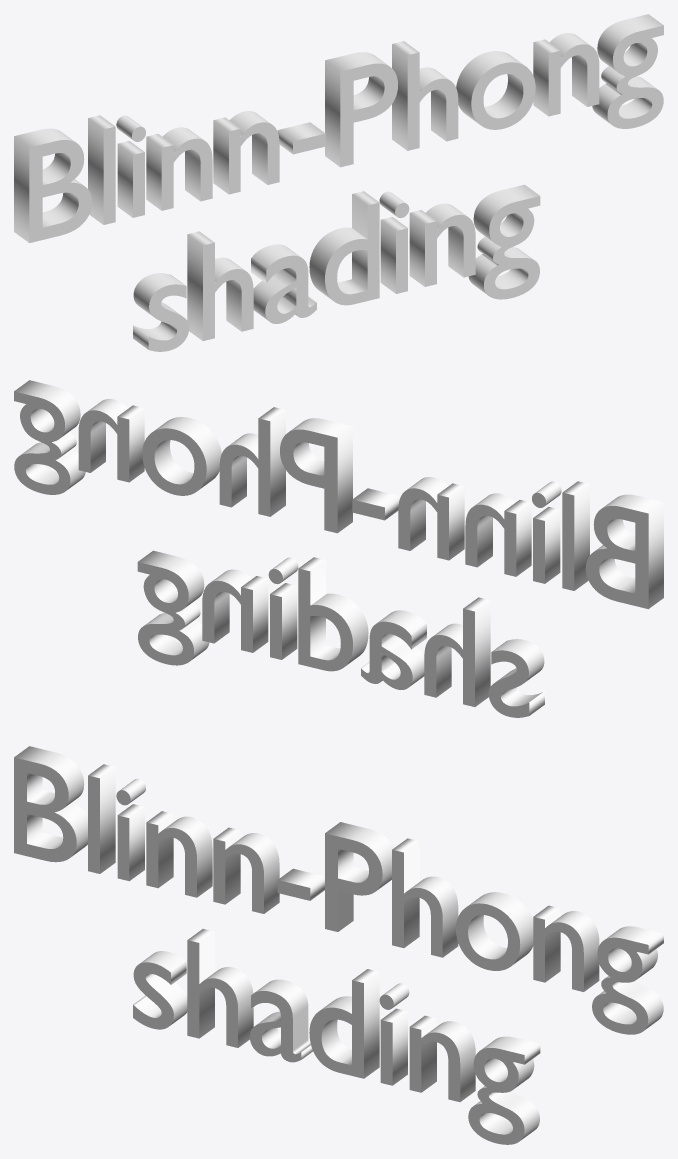
The model's file is blinn_phong_shading.obj.
3 renders of one model, top to bottom at view 1: azimuth 30°, elevation 25°; view 2: azimuth 150°, elevation 25°; view 3: azimuth 330°, elevation 25°, orthographic.
Visible parts, largest first — view 1: Text_Text_Material; view 2: Text_Text_Material; view 3: Text_Text_Material.
Boxes of the visible parts, x1=… form: Text_Text_Material: x1=14, y1=14, x2=663, y2=351; Text_Text_Material: x1=14, y1=380, x2=663, y2=717; Text_Text_Material: x1=14, y1=746, x2=663, y2=1144.
Bounding box in the file's own units: 4.73 × 1.91 × 0.2.
1 material, 1 textured.
